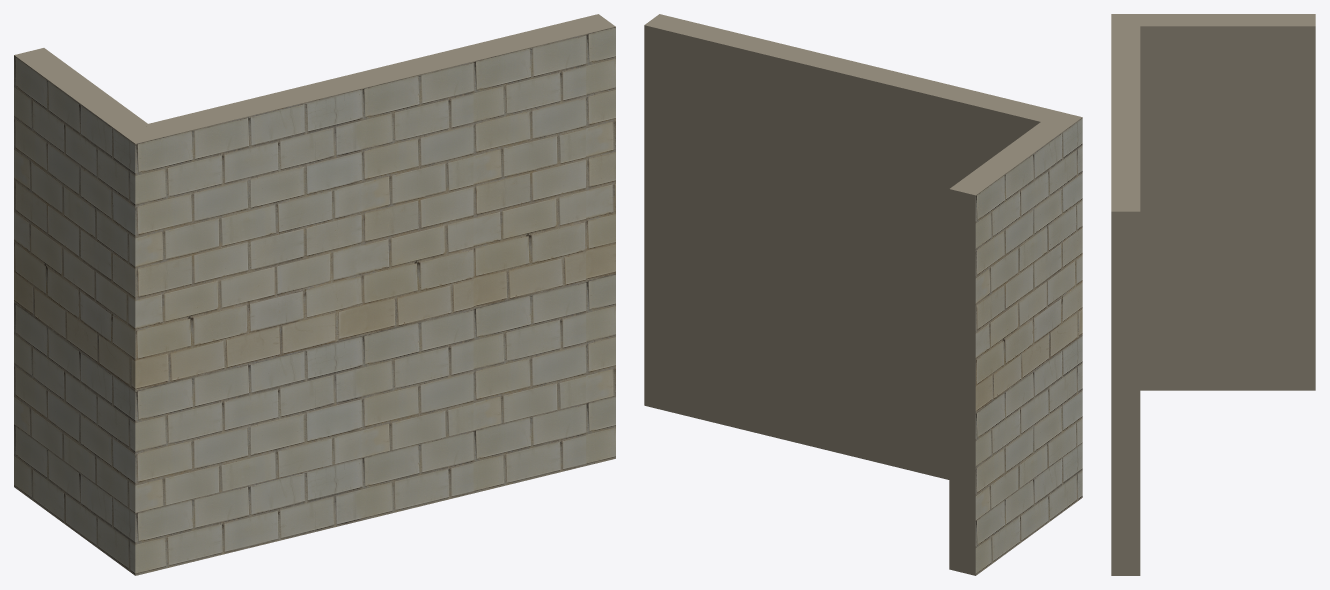
The picture shows the model from 3 angles, left to right: view 1: azimuth 30°, elevation 25°; view 2: azimuth 150°, elevation 25°; view 3: azimuth 270°, elevation 25°; orthographic projection. The views are drawn at different scales.
Visible parts, largest first — view 1: wall; view 2: wall; view 3: wall.
Boxes of the visible parts, x1,y1,x2,y2 form: wall: [14, 14, 615, 575]; wall: [644, 14, 1082, 575]; wall: [1111, 14, 1315, 575].
Bounding box in the file's own units: 32 × 27.5 × 14.
